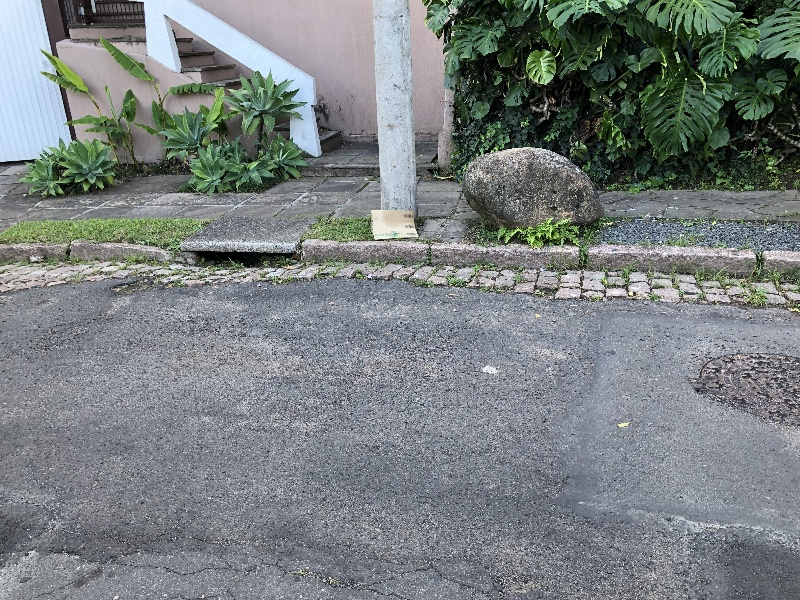v84: (10, 213, 790, 308)
